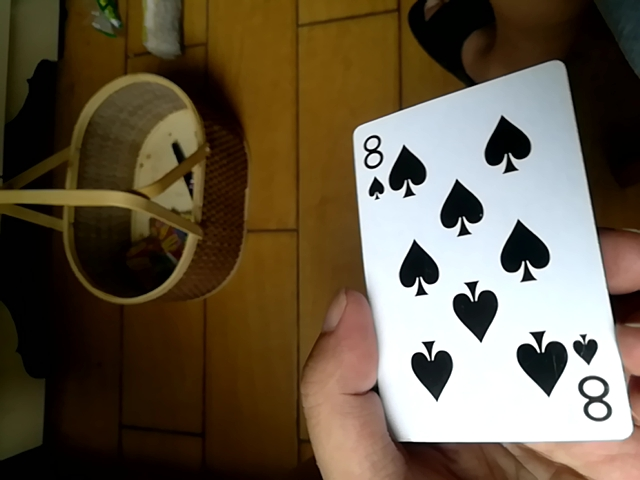ht 8: (346, 60, 631, 434)
